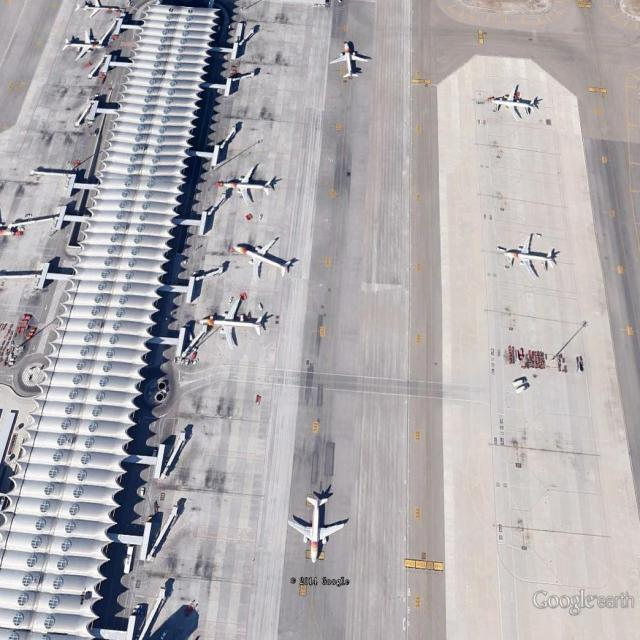aircraft: (288, 496, 351, 567), (200, 297, 273, 353), (496, 230, 564, 282), (233, 237, 300, 286), (214, 163, 278, 207), (486, 84, 543, 124), (330, 36, 375, 84), (63, 28, 111, 64), (74, 3, 133, 22)
